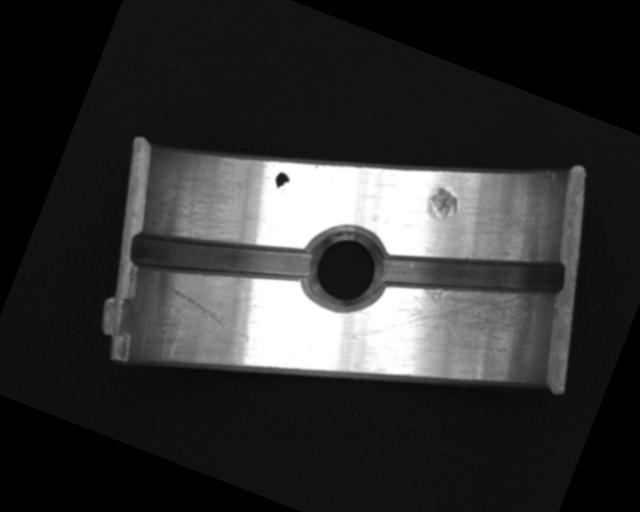blot: (270, 169, 292, 195)
bruise: (420, 182, 464, 227)
gap: (375, 205, 569, 344), (125, 189, 317, 325)
hole: (295, 218, 396, 320)
nick: (160, 285, 257, 343)
scratch: (368, 244, 559, 394)
